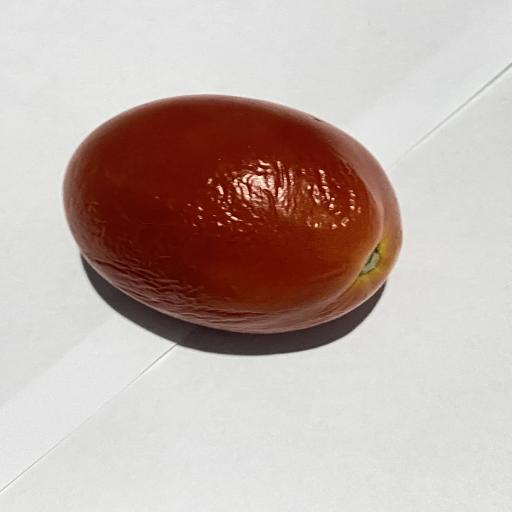spoiled: (63, 95, 401, 333)
